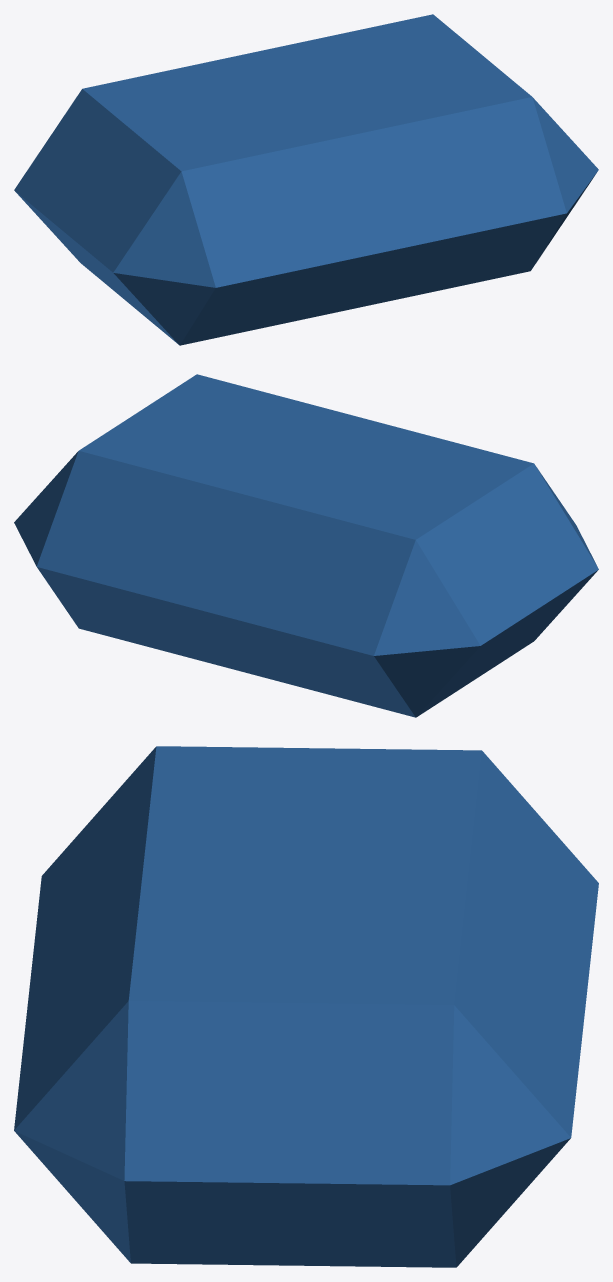
The model's file is SM_Item_Gem_03.glb.
The picture shows the model from 3 angles, top to bottom: view 1: azimuth 30°, elevation 25°; view 2: azimuth 150°, elevation 25°; view 3: azimuth 270°, elevation 25°; orthographic projection. The views are drawn at different scales.
Parts seen in each view (by area): view 1: SM_Item_Gem_03; view 2: SM_Item_Gem_03; view 3: SM_Item_Gem_03.
Part boxes in pixels (x1,y1,x2,y2): SM_Item_Gem_03: [14, 14, 598, 345]; SM_Item_Gem_03: [14, 374, 598, 717]; SM_Item_Gem_03: [14, 746, 598, 1267].
Bounding box in the file's own units: 0.00143 × 0.000506 × 0.000999.
